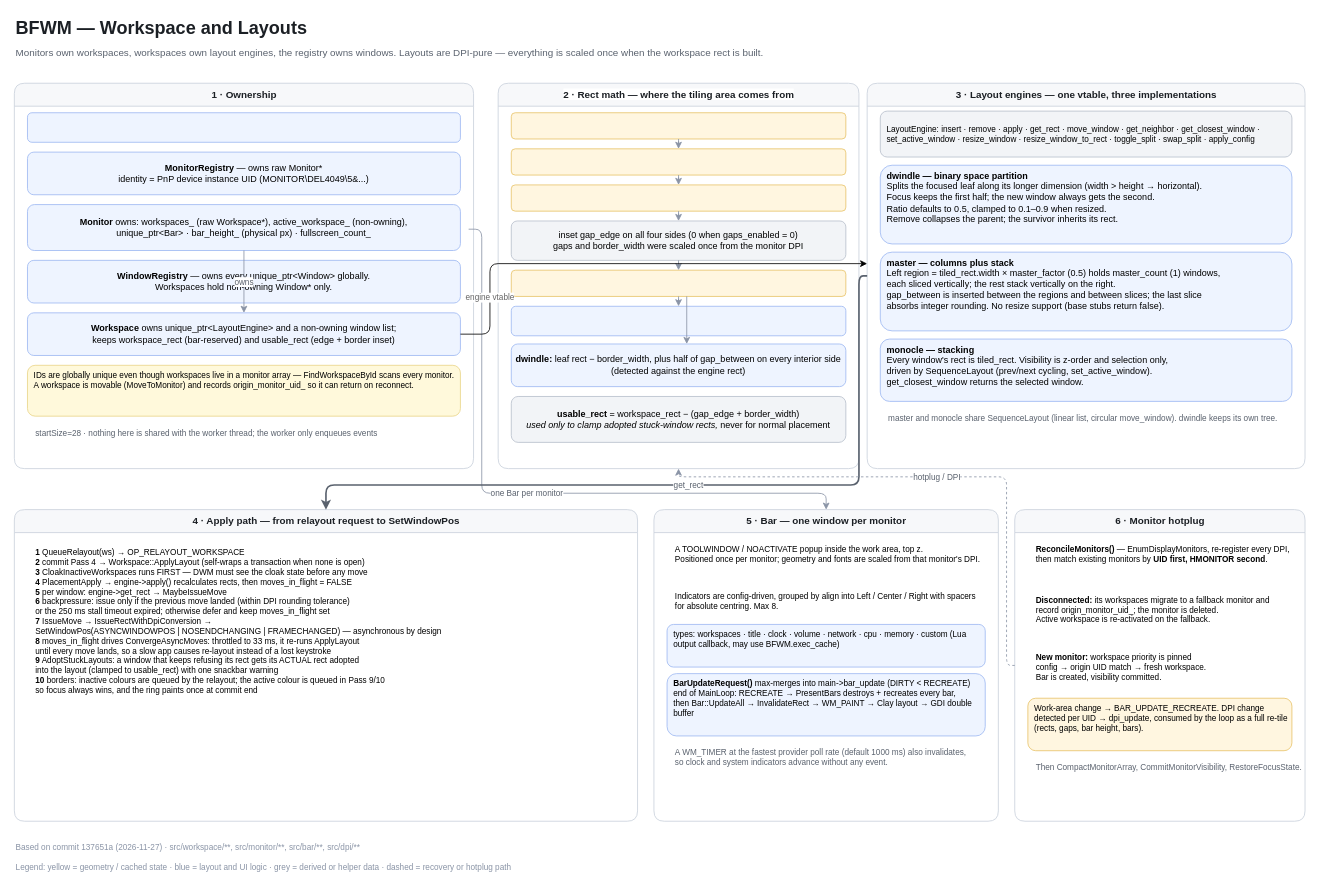
The diagram is 1319 pixels wide and 891 high, and some of its shapes have lost their labels. Each missing label, with the centre of its shape:
+ margin.top + bar height + margin.bottom: [678,161]
engine rect: [678,282]
MainContext (main thread only): [243,127]
master / monocle: tiled_rect = engine rect − border_width: [678,320]
monitor.work_area (physical px): [678,125]
workspace_rect: [678,197]
